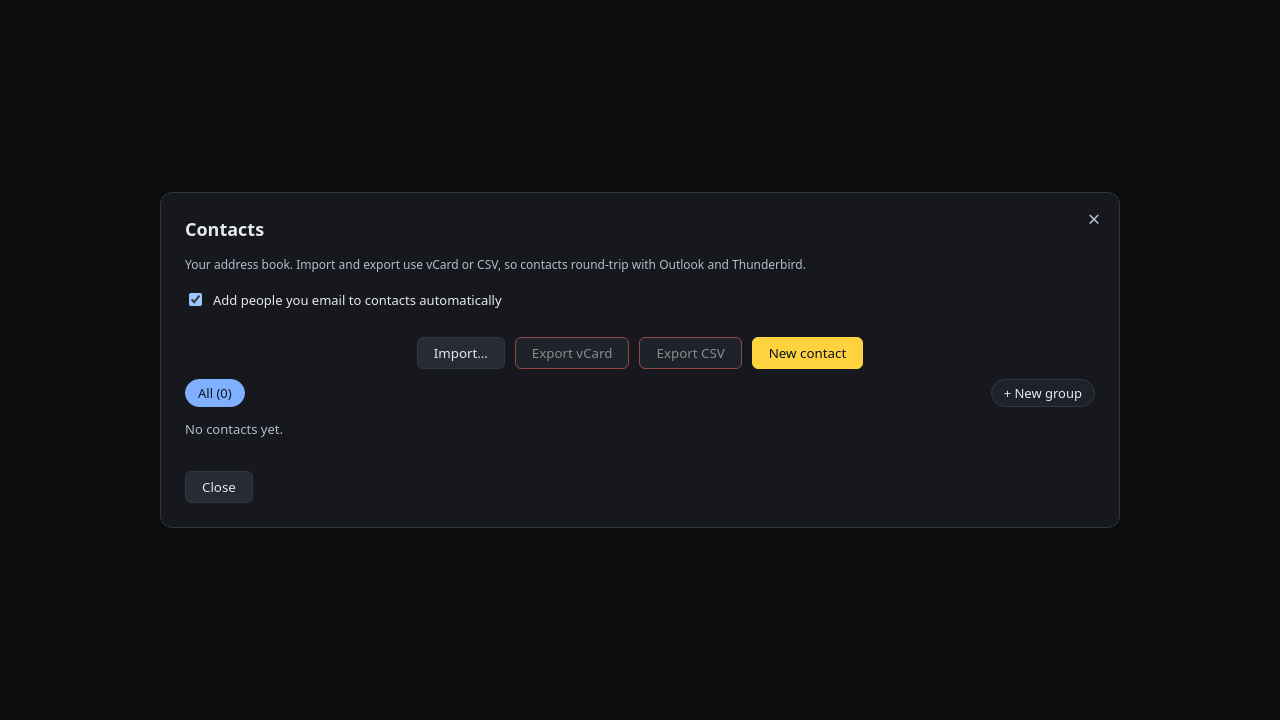
Scenario: reports new and updated contacts separately
Click the button "Import…" at (461, 353), box [417,337,505,369]
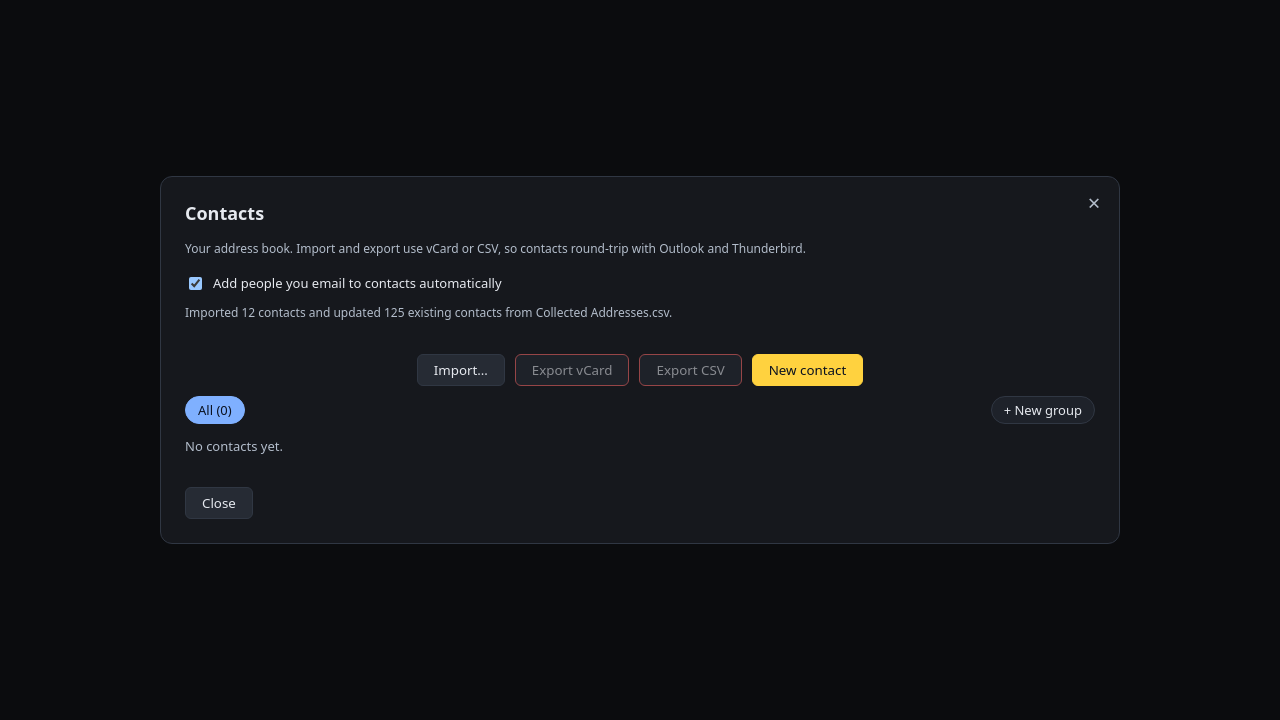
Check: the text "Imported 12 contacts and updated 125 existing contacts from Collected Addresses.csv." is shown, box [185,304,672,321]
